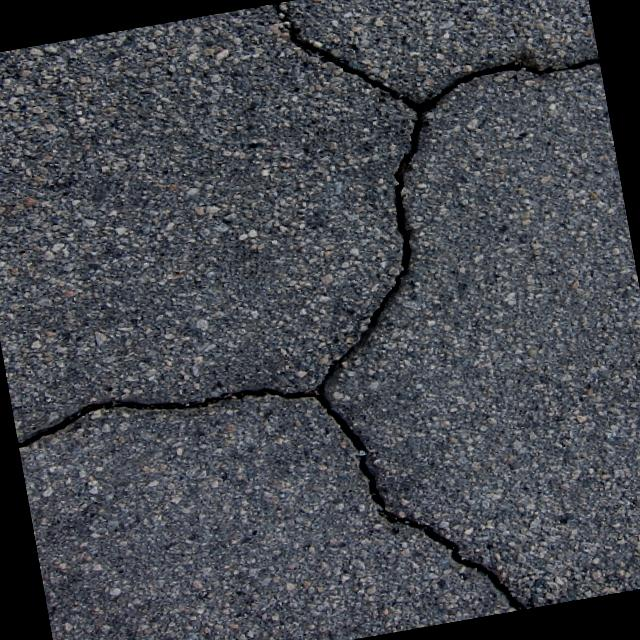crack: (258, 115, 472, 404), (311, 373, 526, 638), (14, 367, 304, 454), (266, 0, 416, 119), (398, 45, 602, 120)
